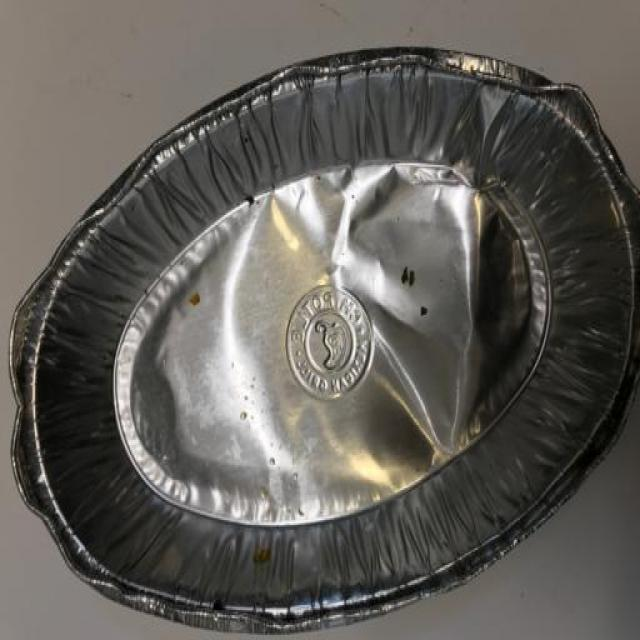metel: (1, 36, 640, 639)
